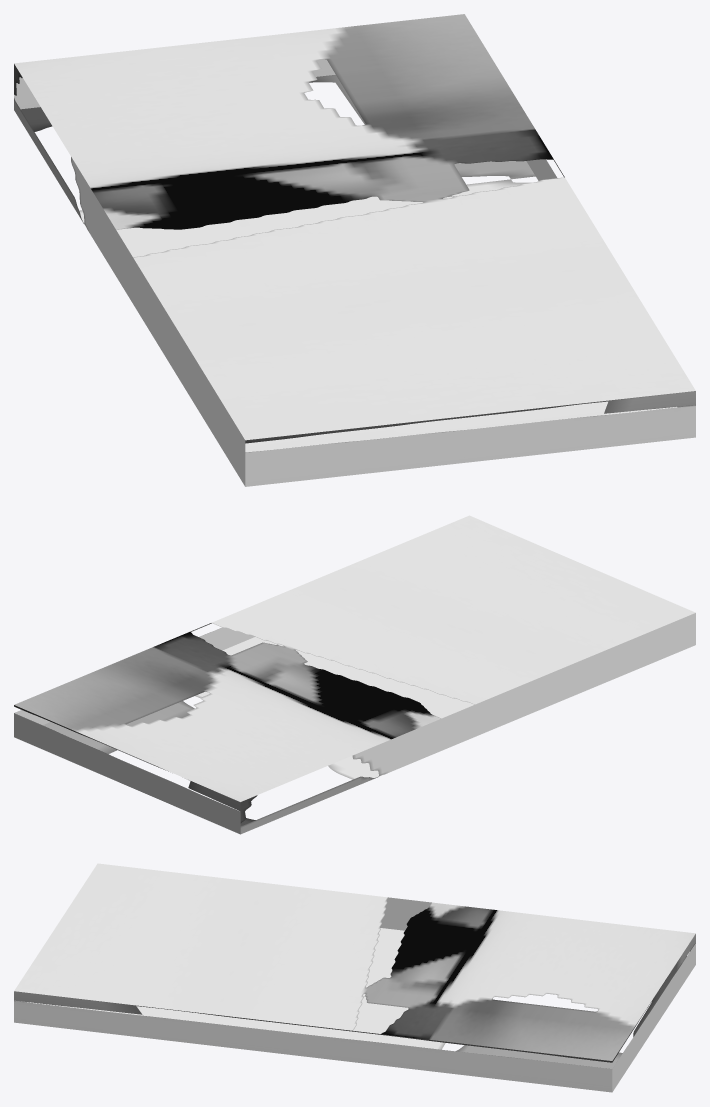
File: storehouse_prop.dae
The picture shows the model from 3 angles, top to bottom: view 1: azimuth 30°, elevation 25°; view 2: azimuth 150°, elevation 25°; view 3: azimuth 270°, elevation 25°; orthographic projection. The views are drawn at different scales.
Parts seen in each view (by area): view 1: storehouse.001; view 2: storehouse.001; view 3: storehouse.001.
Boxes of the visible parts, left/top/right/bottom form: storehouse.001: left=14, top=14, right=695, bottom=486; storehouse.001: left=14, top=515, right=695, bottom=834; storehouse.001: left=14, top=863, right=695, bottom=1092.
Size of the model in its own units: 3.32 by 4.84 by 0.2459.
